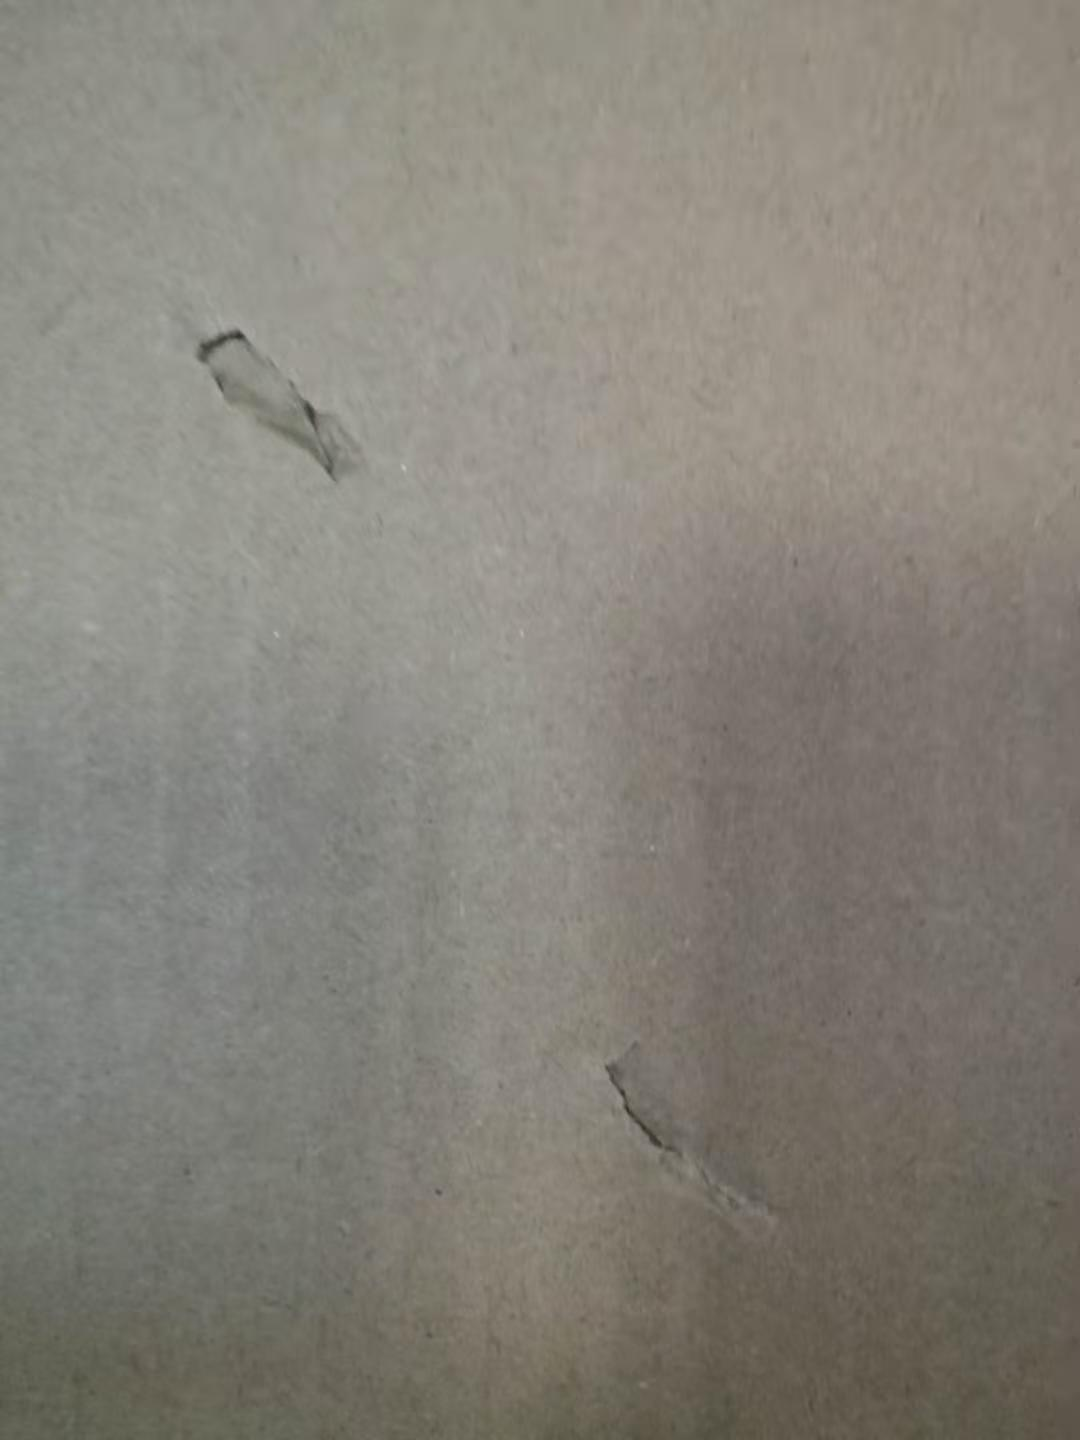defect: (577, 1019, 819, 1265), (154, 272, 393, 502)
